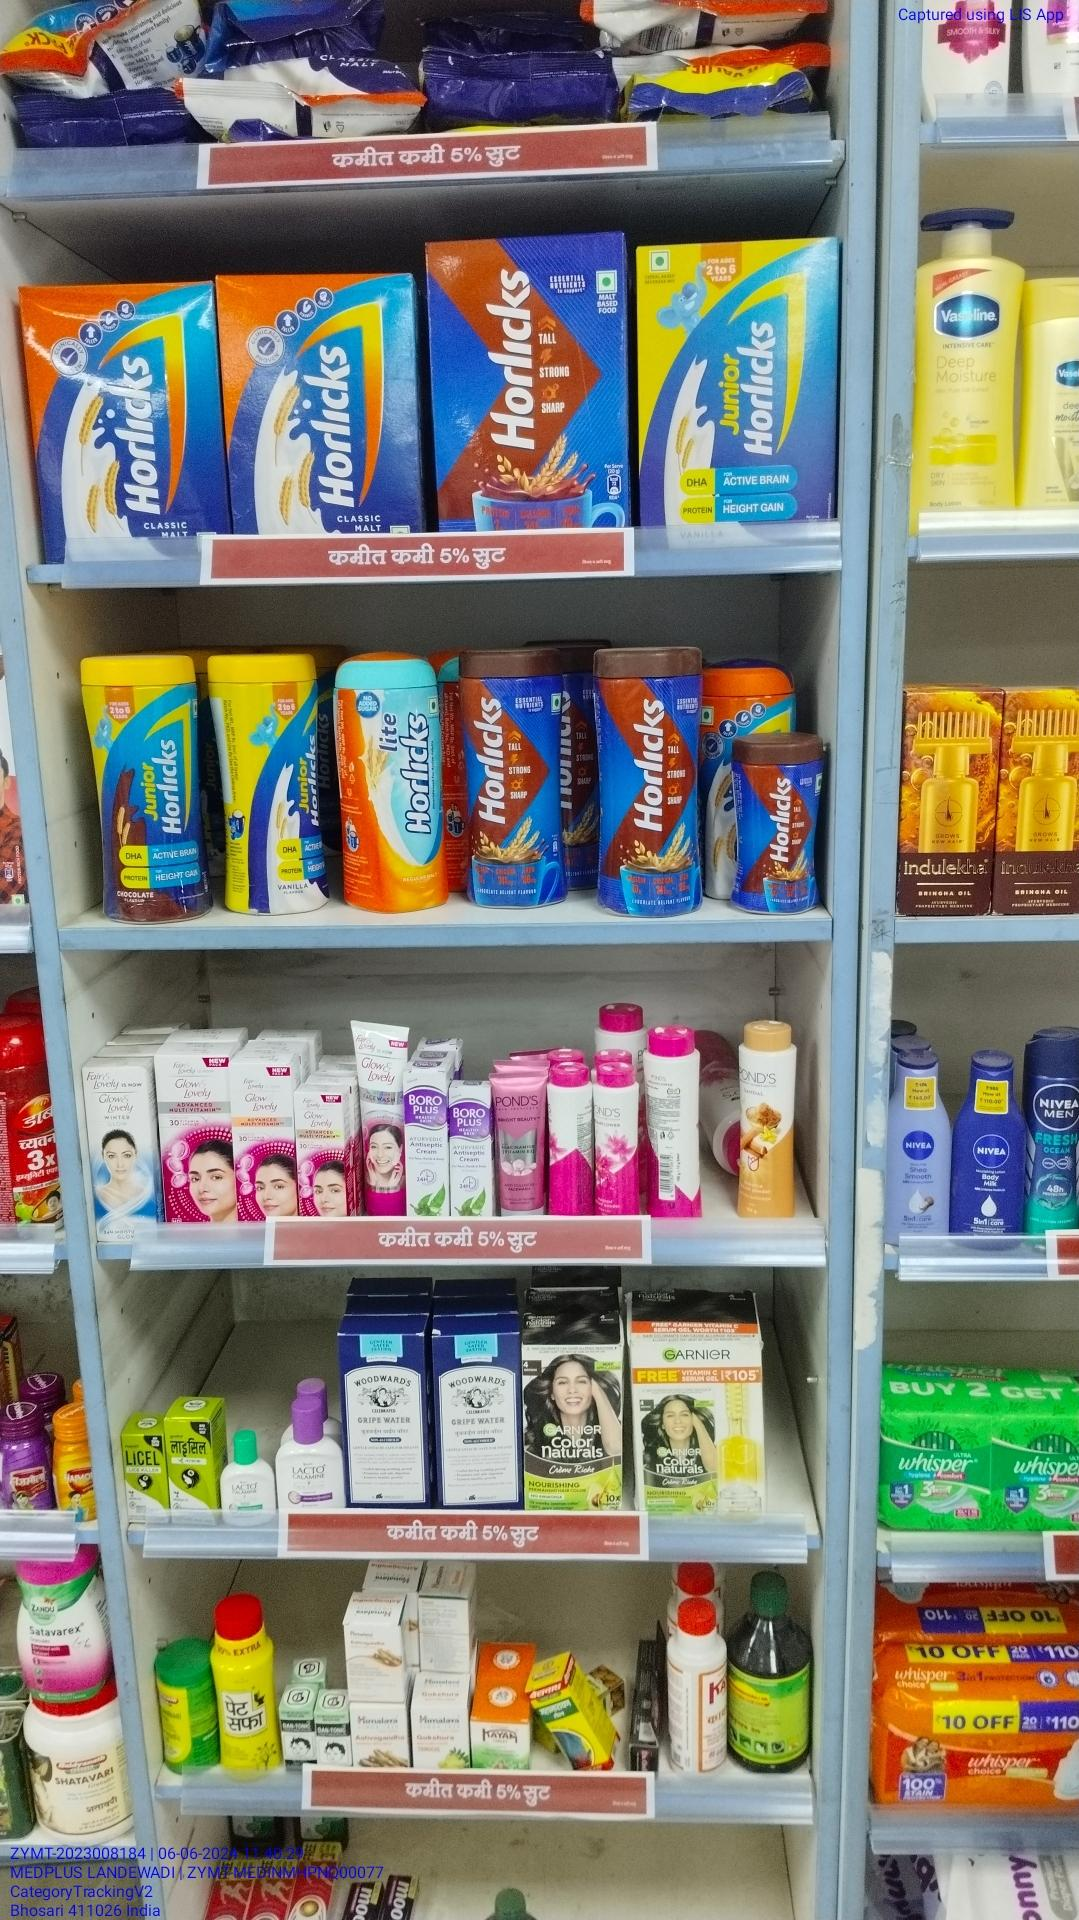HORLICKS_JUNIOR_VANILLA_500_GM_JAR: (228, 650, 330, 922)
HORLICKS_LITE_REGULAR_MALT_500_GM_JAR: (343, 661, 450, 916)
HORLICK_CHOCOLATE_200_G_JAR: (728, 737, 819, 916)
HORLICK_CHOCOLATE_500_G_JAR: (599, 649, 710, 919), (468, 645, 570, 911)
HORLICK_CHOCOLATE_500_G_PACK: (425, 231, 625, 531)
